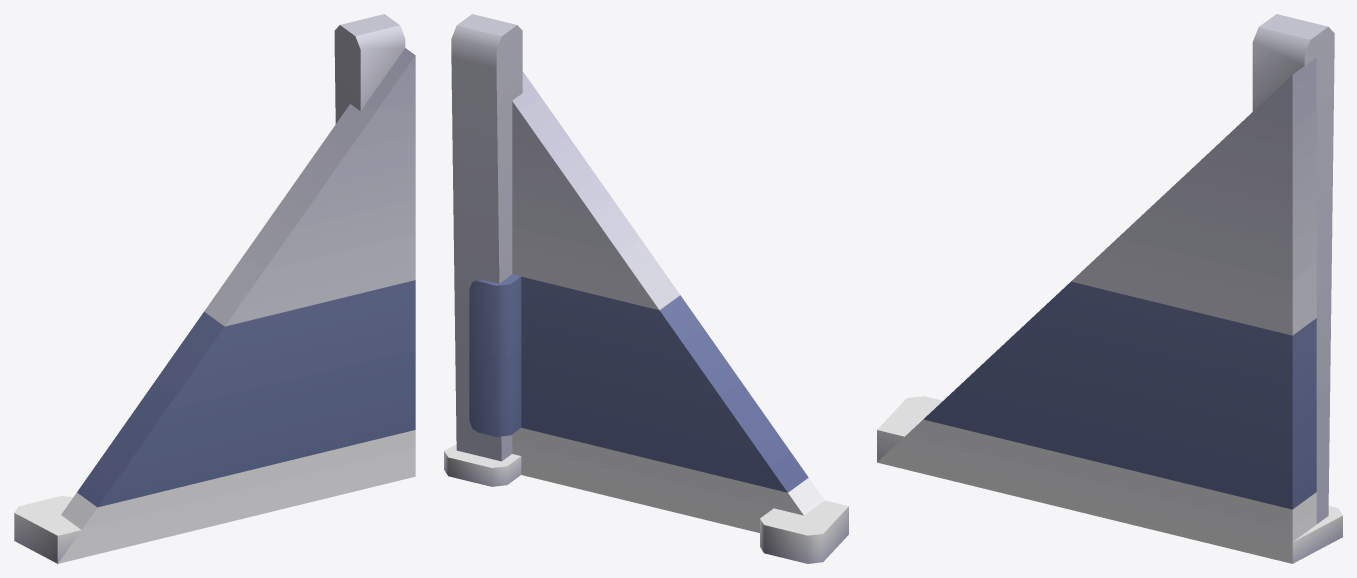
File: template-wall-stairs.glb
The picture shows the model from 3 angles, left to right: view 1: azimuth 30°, elevation 25°; view 2: azimuth 150°, elevation 25°; view 3: azimuth 330°, elevation 25°; orthographic projection. The views are drawn at different scales.
Parts seen in each view (by area): view 1: template-wall-stairs; view 2: template-wall-stairs; view 3: template-wall-stairs.
Part boxes in pixels (left/top/right/bottom): template-wall-stairs: left=14, top=14, right=415, bottom=563; template-wall-stairs: left=444, top=14, right=848, bottom=563; template-wall-stairs: left=877, top=14, right=1342, bottom=563.
Size of the model in its own units: 4.2 by 4.7 by 0.7751.
Materials: 1 (1 with a texture image).
